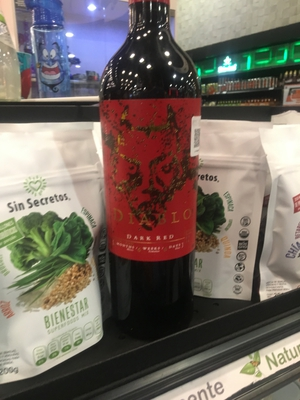diablo dark red: (92, 11, 206, 293)
